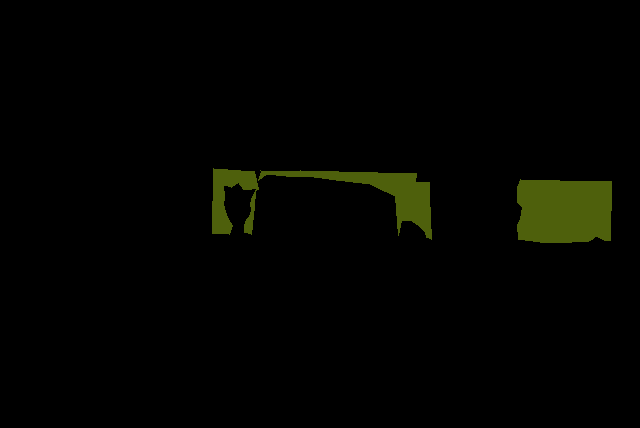Train: (212, 168, 611, 242)
